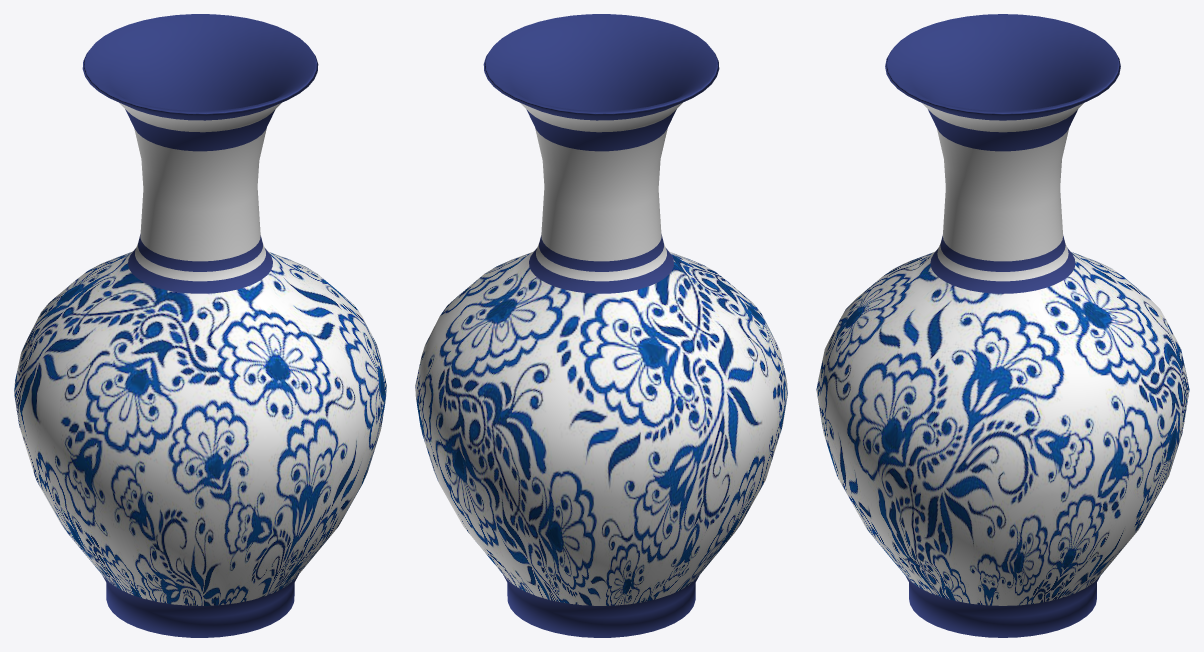
Rendered from AP_vase02_TL.fbx.
3 renders of one model, left to right at view 1: azimuth 30°, elevation 25°; view 2: azimuth 150°, elevation 25°; view 3: azimuth 270°, elevation 25°, orthographic.
Visible parts, largest first — view 1: pCylinder3; view 2: pCylinder3; view 3: pCylinder3.
Part boxes in pixels (bbox=[...]): pCylinder3: bbox=[14, 14, 386, 637]; pCylinder3: bbox=[415, 14, 787, 637]; pCylinder3: bbox=[816, 14, 1189, 637].
Bounding box in the file's own units: 1.67 × 2.65 × 1.67.
Materials: 4 (1 with a texture image).
